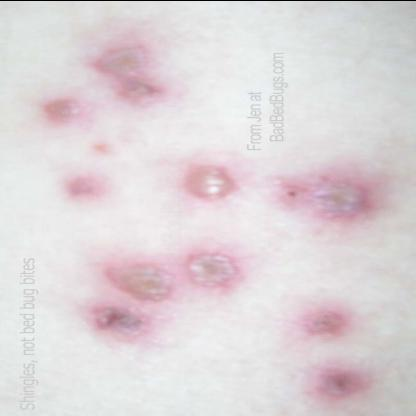Bed Bug: (87, 36, 173, 112), (272, 170, 374, 230), (84, 302, 164, 342), (99, 260, 173, 302), (184, 247, 244, 295), (179, 158, 241, 202), (311, 358, 371, 401), (60, 166, 118, 206), (295, 305, 353, 343), (31, 94, 86, 128), (85, 138, 117, 160)
